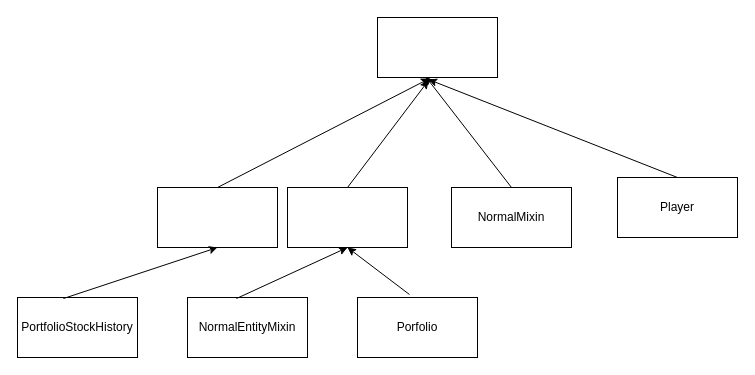
The diagram is 755 pixels wide and 375 high, and some of its shapes have lost their labels. Each missing label, with the centre of its shape:
"EntityMixin" belongs at [347,217].
"Mixin" belongs at [437,47].
"PortfolioStock" belongs at [217,217].
